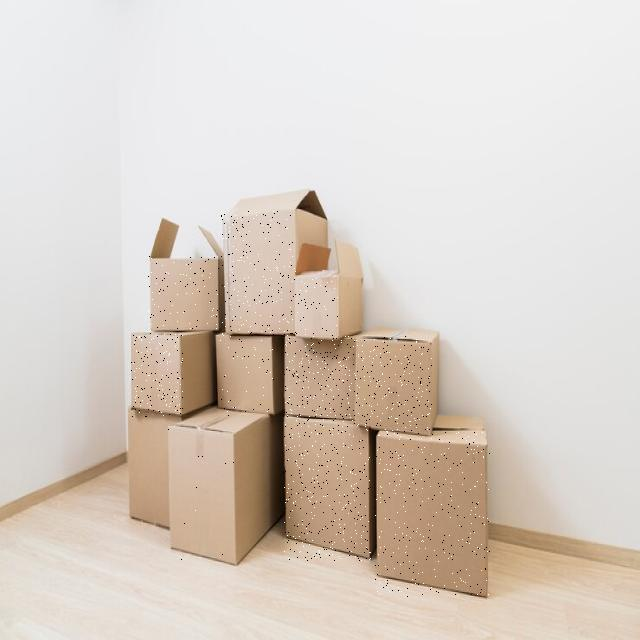BoxFace: (374, 432, 490, 598), (284, 416, 371, 562), (166, 422, 238, 566), (221, 211, 297, 336), (354, 336, 432, 436), (284, 336, 357, 419), (148, 256, 219, 331), (216, 336, 274, 416), (132, 333, 184, 418), (294, 276, 340, 340)
